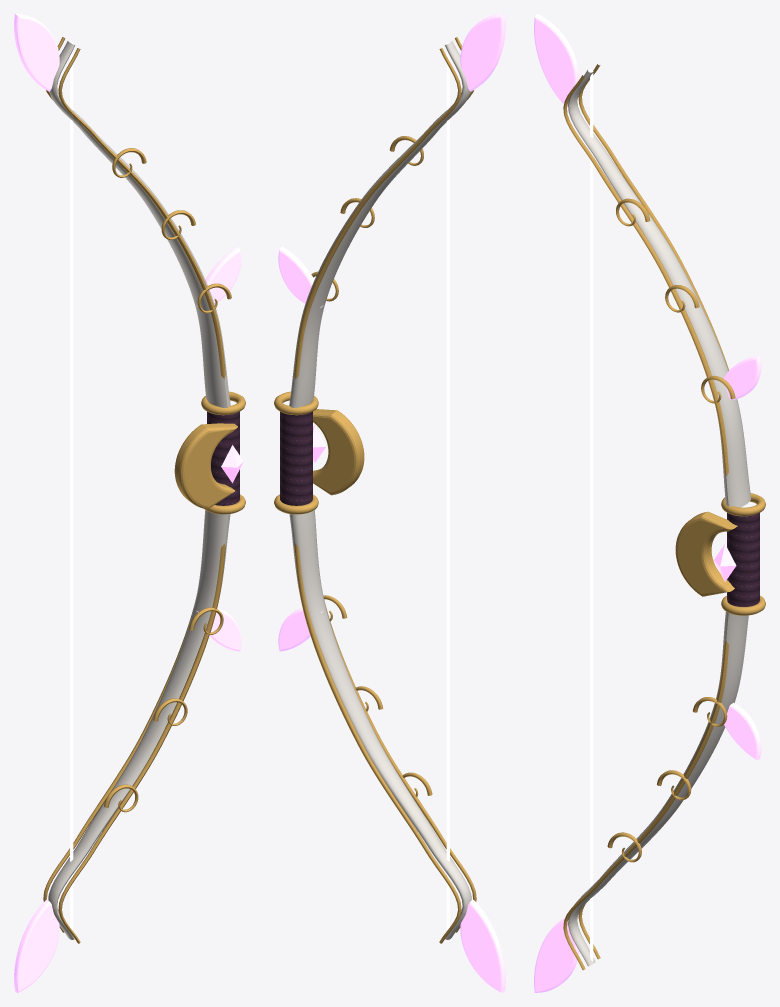
File: bow.glb
The picture shows the model from 3 angles, left to right: view 1: azimuth 30°, elevation 25°; view 2: azimuth 150°, elevation 25°; view 3: azimuth 330°, elevation 25°; orthographic projection.
Parts seen in each view (by area): view 1: limbs, crystalLeaves, limbInlay, string, crescent, filigree, grip, collars; view 2: limbs, crystalLeaves, limbInlay, string, crescent, grip, filigree, collars; view 3: limbs, crystalLeaves, limbInlay, string, crescent, grip, filigree, collars.
Part boxes in pixels (x1,y1,x2,y2): limbs: [48, 41, 230, 939]; crystalLeaves: [14, 14, 241, 992]; limbInlay: [43, 37, 225, 943]; string: [70, 42, 73, 930]; crescent: [174, 423, 237, 509]; filigree: [104, 148, 231, 812]; grip: [207, 411, 239, 505]; collars: [201, 391, 245, 514]; limbs: [289, 41, 471, 939]; crystalLeaves: [278, 14, 505, 992]; limbInlay: [294, 37, 476, 943]; string: [446, 42, 449, 930]; crescent: [313, 409, 364, 495]; grip: [280, 411, 312, 505]; filigree: [311, 136, 432, 796]; collars: [274, 391, 318, 514]; limbs: [568, 70, 750, 966]; crystalLeaves: [534, 14, 761, 992]; limbInlay: [563, 64, 728, 970]; string: [590, 69, 593, 964]; crescent: [675, 511, 737, 596]; grip: [727, 513, 759, 606]; filigree: [607, 198, 735, 862]; collars: [721, 493, 765, 615].
Size of the model in its own units: 0.9595 by 3.93 by 0.218.
9 materials, 1 textured.
